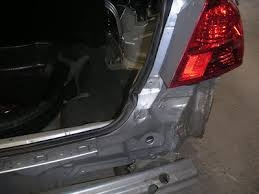Dent: (8, 79, 217, 194)
